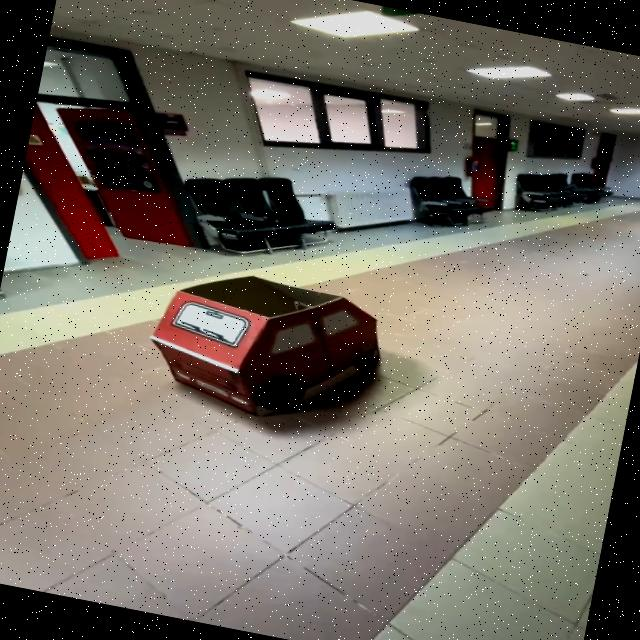red_car: (123, 241, 408, 449)
